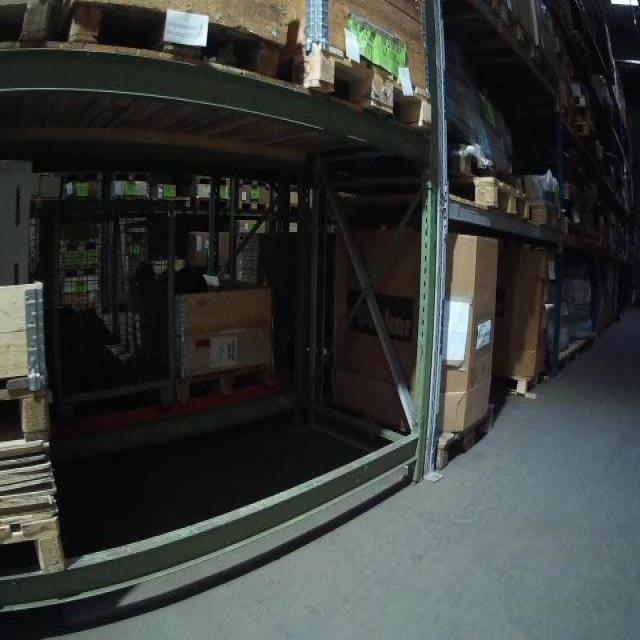pallet: (66, 0, 283, 78), (285, 48, 435, 134), (177, 360, 275, 406), (1, 513, 71, 574), (448, 173, 532, 222), (435, 403, 494, 468), (0, 375, 54, 441), (499, 1, 540, 63), (496, 373, 548, 397), (195, 196, 233, 210), (193, 173, 230, 187), (237, 179, 271, 190), (238, 201, 268, 213)
stillage: (38, 194, 174, 407)
